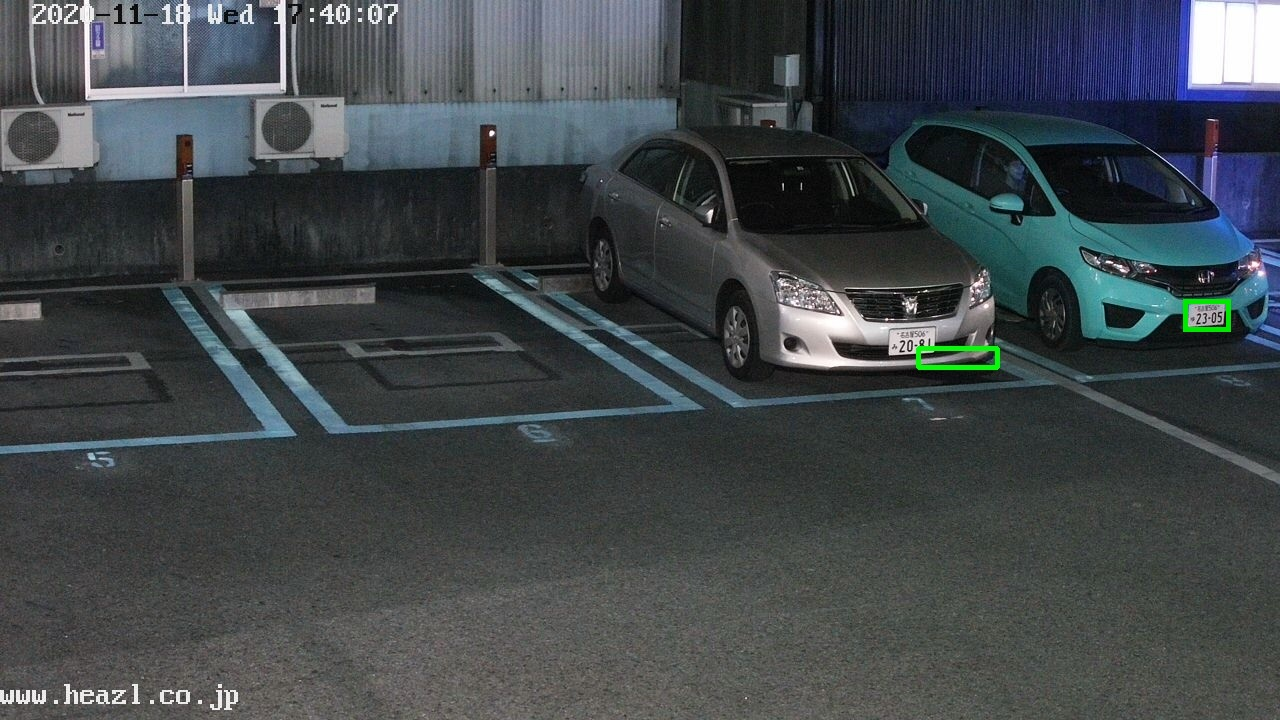number_plate: (890, 329, 937, 355), (1189, 302, 1223, 327)
